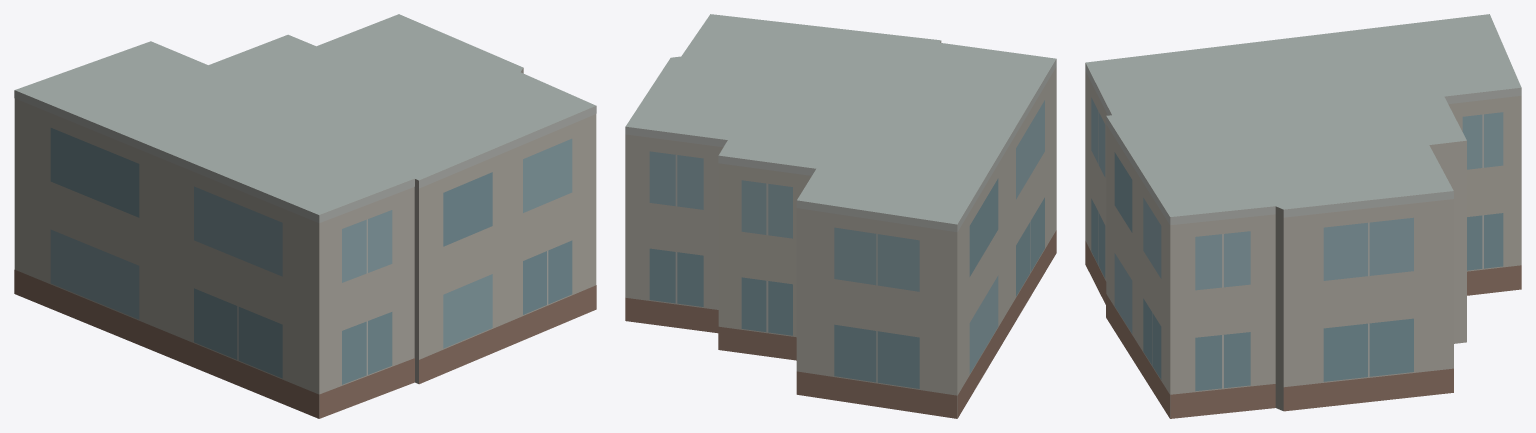
The model's file is survey-upis-32923971.glb.
3 views of the same model, side by side, from view 1: azimuth 30°, elevation 25°; view 2: azimuth 150°, elevation 25°; view 3: azimuth 270°, elevation 25° (orthographic). The views are drawn at different scales.
Parts seen in each view (by area): view 1: survey-upis-32923971.tmp; view 2: survey-upis-32923971.tmp; view 3: survey-upis-32923971.tmp.
Part boxes in pixels (x1=…): survey-upis-32923971.tmp: x1=14, y1=14, x2=596, y2=418; survey-upis-32923971.tmp: x1=625, y1=14, x2=1056, y2=418; survey-upis-32923971.tmp: x1=1085, y1=14, x2=1521, y2=418.
Size of the model in its own units: 13.18 by 6.1 by 11.97.
